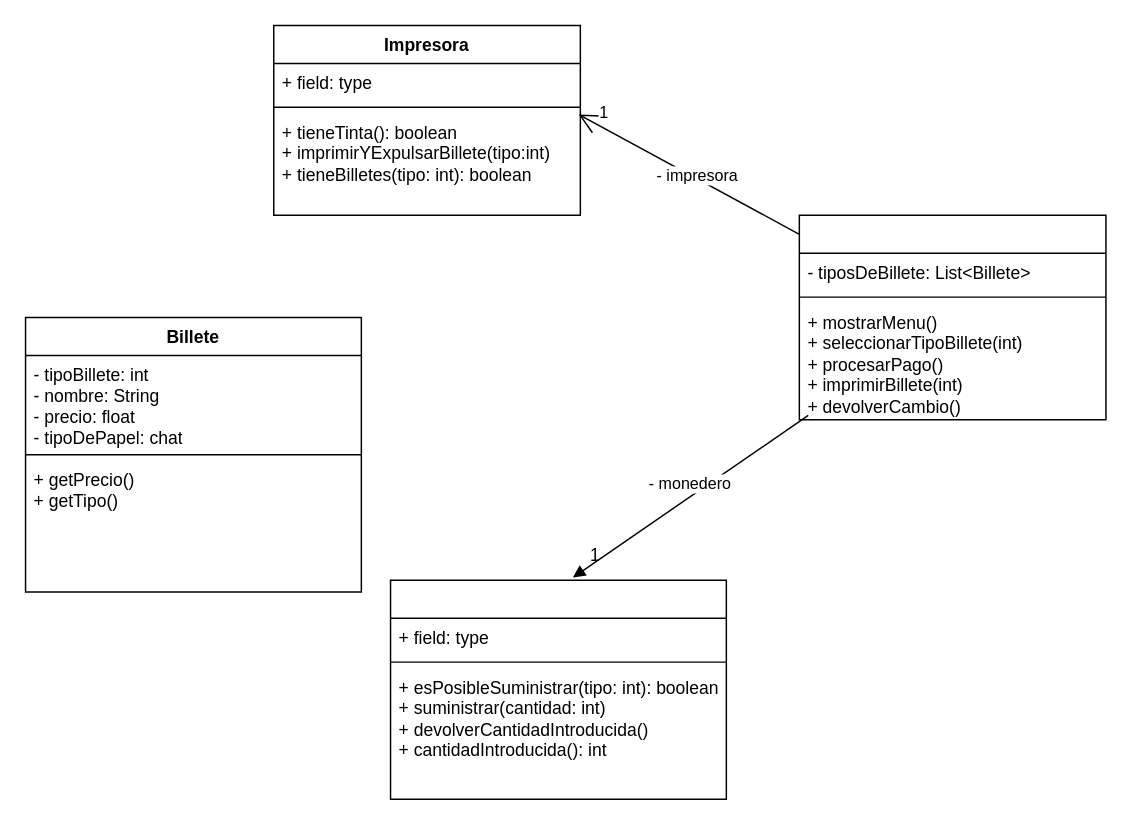
This 1132x829 diagram has some shape labels left out. The shapes that lost their labels are listed below. From the top down, each one's box as (x1, y1, x2, y2) in pixels, then its label:
(798, 214, 1106, 420): MaquinaExpendedora
(389, 579, 726, 799): Monedero
